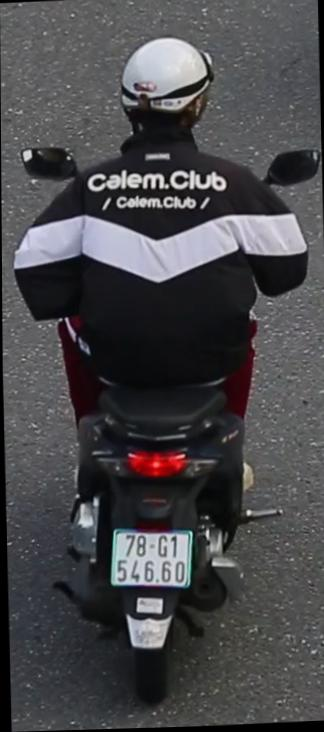LP: (99, 512, 198, 604)
helmet: (112, 30, 219, 139)
